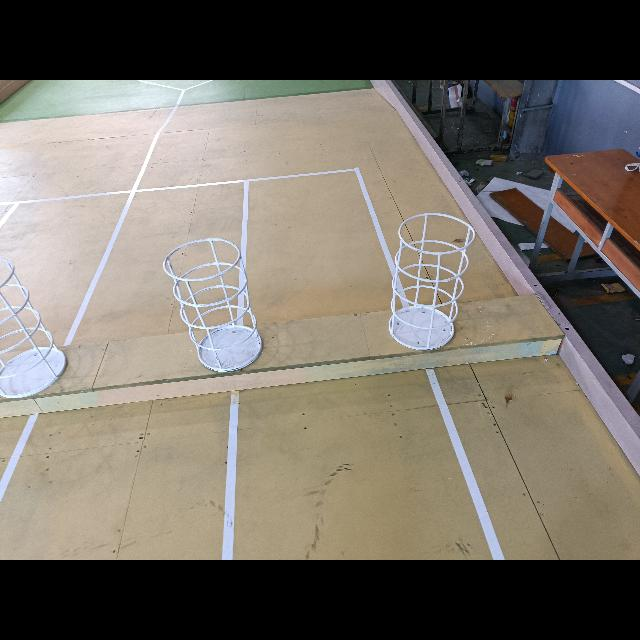S: (163, 238, 263, 374), (389, 213, 476, 351), (0, 258, 67, 396)
